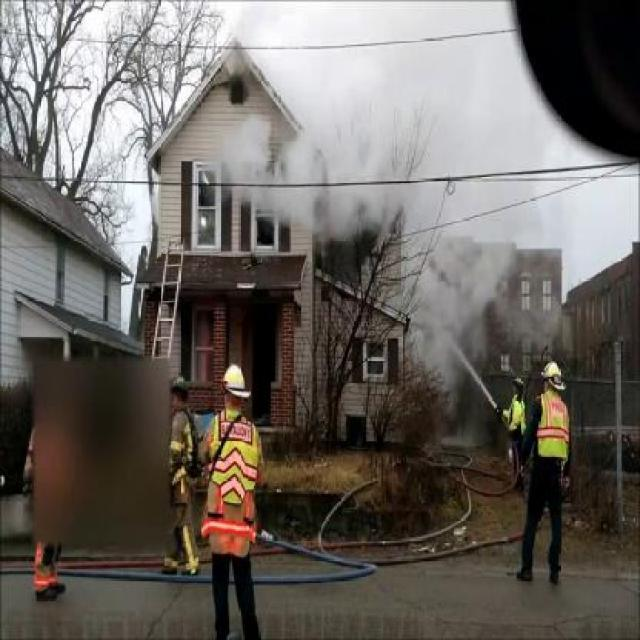smoke: (238, 0, 550, 422), (222, 126, 421, 245)
